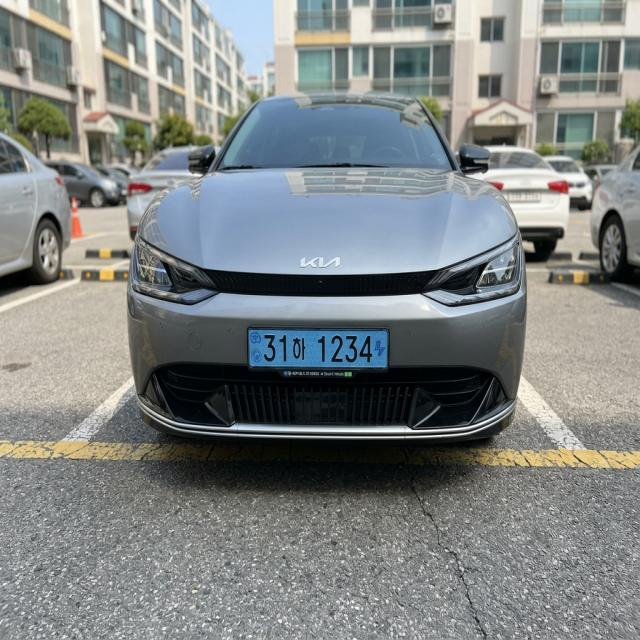car: (240, 317, 396, 388)
carev: (246, 326, 262, 371), (373, 331, 389, 368)
